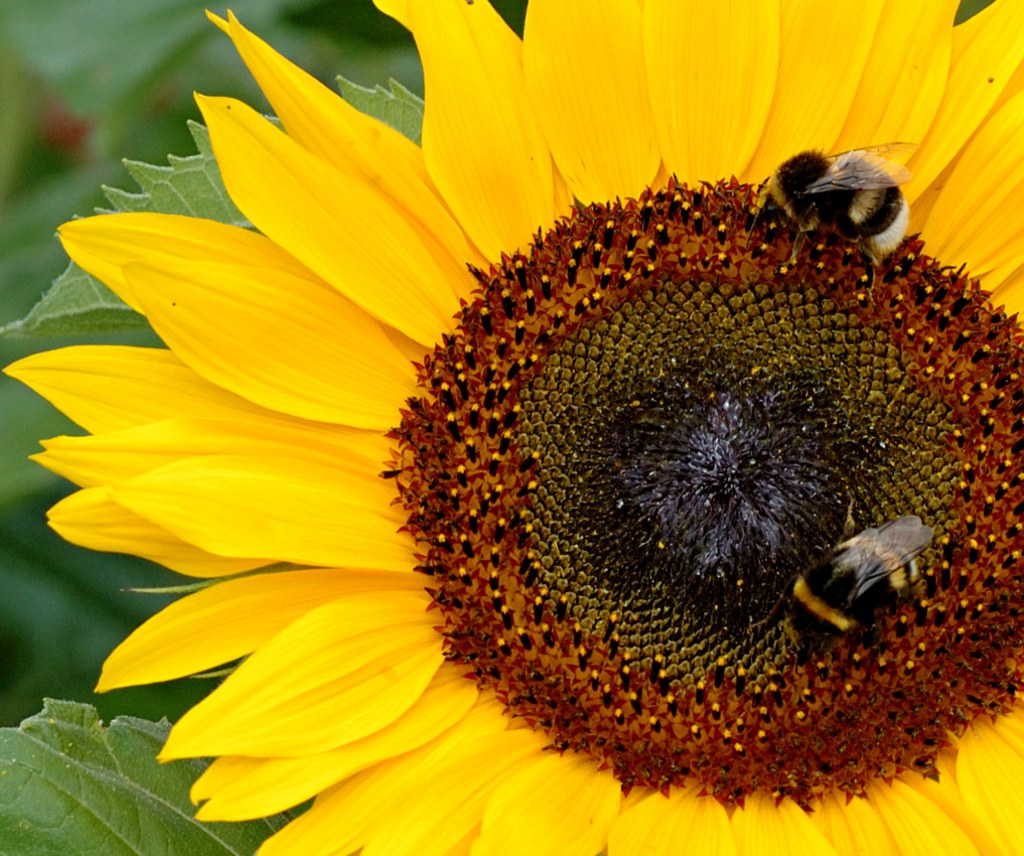bee: (756, 513, 948, 666), (733, 134, 924, 273)
insect: (0, 0, 1023, 855)
